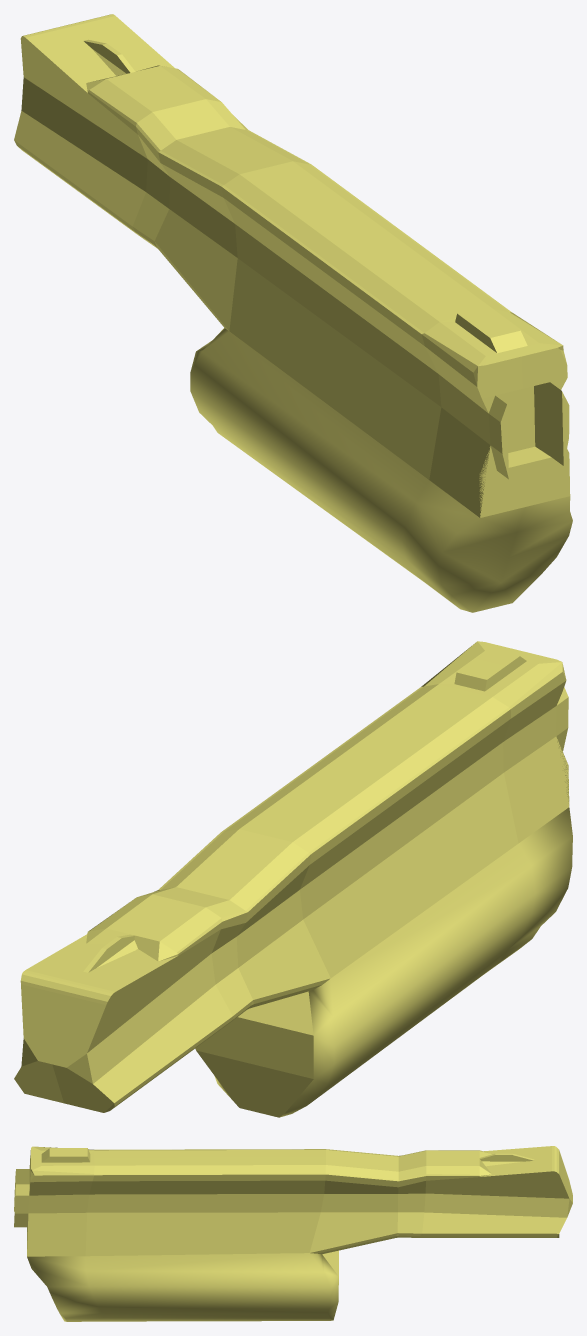
File: Receiver.fbx
3 renders of one model, top to bottom at view 1: azimuth 30°, elevation 25°; view 2: azimuth 150°, elevation 25°; view 3: azimuth 270°, elevation 25°, orthographic. The views are drawn at different scales.
Visible parts, largest first — view 1: Receiver Low Poly; view 2: Receiver Low Poly; view 3: Receiver Low Poly.
Part boxes in pixels (x1=…): Receiver Low Poly: x1=14, y1=14, x2=572, y2=612; Receiver Low Poly: x1=14, y1=641, x2=572, y2=1117; Receiver Low Poly: x1=14, y1=1146, x2=572, y2=1321.
Size of the model in its own units: 158 by 296 by 915.
